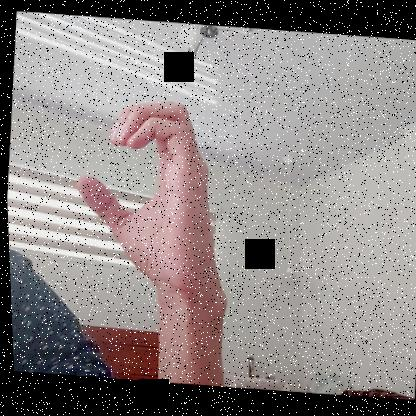C: (66, 93, 231, 296)
